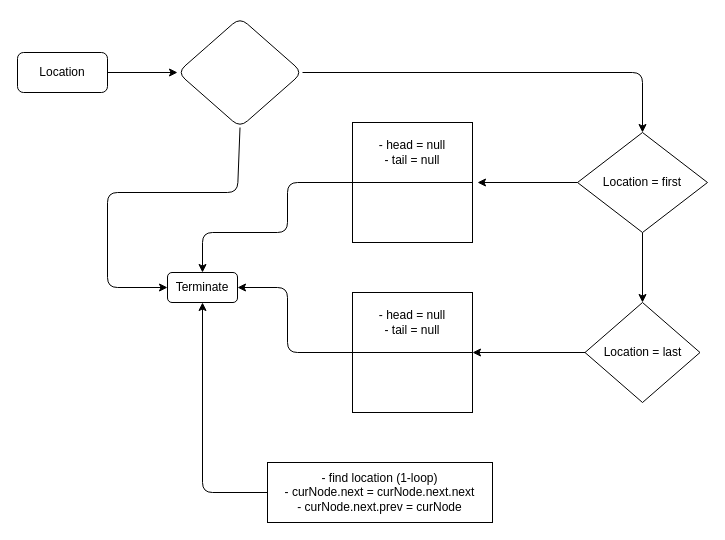
Image size: 725x540. Some labels were removed from this diagram. Each missing label, with the centre of its shape:
- head = head.prev - head.prev = null: the point at 412,212
- tail = tail.prev tail.next = null: the point at 412,382
head=null?: the point at 239,72
